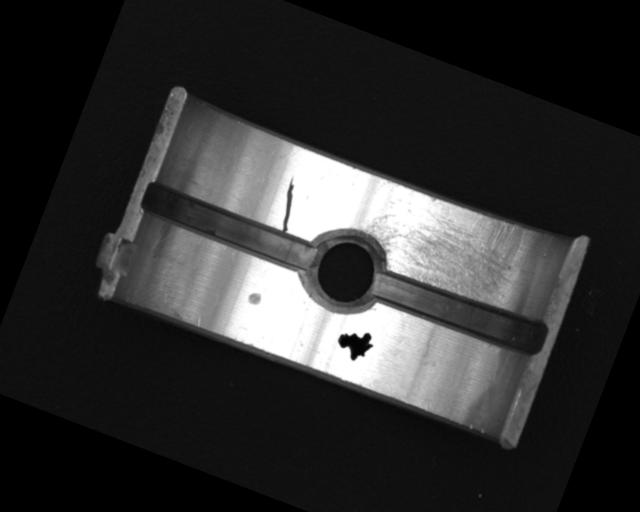blot: (332, 323, 377, 366)
bruise: (245, 289, 264, 307)
gap: (135, 175, 324, 279), (366, 261, 550, 362)
hole: (294, 218, 396, 324)
nick: (270, 174, 306, 233)
scratch: (352, 173, 541, 317)
